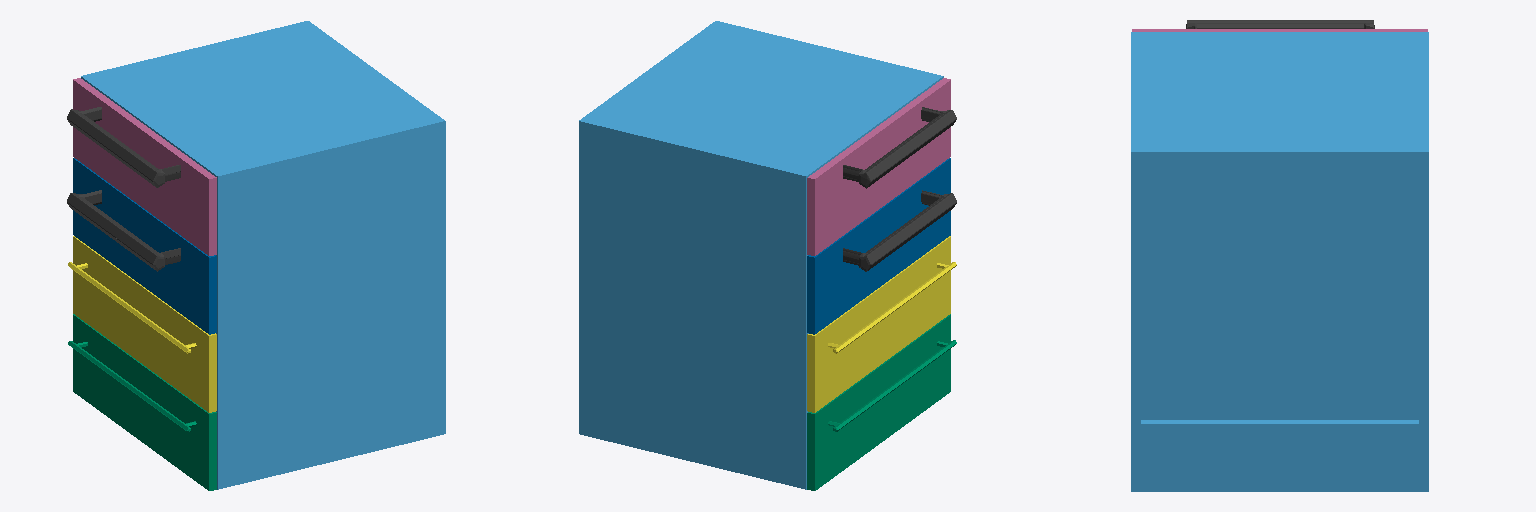
robot.urdf — partnet_f44029207e03c4be4c3aee8e9d3a6ffa:
<?xml version="1.0" ?>
<robot name="partnet_f44029207e03c4be4c3aee8e9d3a6ffa">
    <material name="black">
       <color rgba="0.3 0.3 0.3 1"/>
    </material>
	<link name="base"/>
	<link name="link_0">
		<visual name="back_panel-50">
			<origin xyz="0 0 0"/>
			<geometry>
				<mesh filename="textured_objs/original-15.obj"/>
			</geometry>
		</visual>
		<visual name="bottom_panel-51">
			<origin xyz="0 0 0"/>
			<geometry>
				<mesh filename="textured_objs/original-10.obj"/>
			</geometry>
		</visual>
		<visual name="bottom_panel-51">
			<origin xyz="0 0 0"/>
			<geometry>
				<mesh filename="textured_objs/original-9.obj"/>
			</geometry>
		</visual>
		<visual name="top_panel-52">
			<origin xyz="0 0 0"/>
			<geometry>
				<mesh filename="textured_objs/original-13.obj"/>
			</geometry>
		</visual>
		<visual name="top_panel-52">
			<origin xyz="0 0 0"/>
			<geometry>
				<mesh filename="textured_objs/original-12.obj"/>
			</geometry>
		</visual>
		<visual name="frame_horizontal_bar-55">
			<origin xyz="0 0 0"/>
			<geometry>
				<mesh filename="textured_objs/original-16.obj"/>
			</geometry>
		</visual>
		<visual name="frame_horizontal_bar-56">
			<origin xyz="0 0 0"/>
			<geometry>
				<mesh filename="textured_objs/original-14.obj"/>
			</geometry>
		</visual>
		<visual name="vertical_side_panel-59">
			<origin xyz="0 0 0"/>
			<geometry>
				<mesh filename="textured_objs/original-7.obj"/>
			</geometry>
		</visual>
		<visual name="vertical_side_panel-59">
			<origin xyz="0 0 0"/>
			<geometry>
				<mesh filename="textured_objs/original-6.obj"/>
			</geometry>
		</visual>
		<visual name="vertical_side_panel-60">
			<origin xyz="0 0 0"/>
			<geometry>
				<mesh filename="textured_objs/original-4.obj"/>
			</geometry>
		</visual>
		<visual name="vertical_side_panel-60">
			<origin xyz="0 0 0"/>
			<geometry>
				<mesh filename="textured_objs/original-3.obj"/>
			</geometry>
		</visual>
		<collision>
			<origin xyz="0 0 0"/>
			<geometry>
				<mesh filename="textured_objs/original-15.obj"/>
			</geometry>
		</collision>
		<collision>
			<origin xyz="0 0 0"/>
			<geometry>
				<mesh filename="textured_objs/original-10.obj"/>
			</geometry>
		</collision>
		<collision>
			<origin xyz="0 0 0"/>
			<geometry>
				<mesh filename="textured_objs/original-9.obj"/>
			</geometry>
		</collision>
		<collision>
			<origin xyz="0 0 0"/>
			<geometry>
				<mesh filename="textured_objs/original-13.obj"/>
			</geometry>
		</collision>
		<collision>
			<origin xyz="0 0 0"/>
			<geometry>
				<mesh filename="textured_objs/original-12.obj"/>
			</geometry>
		</collision>
		<collision>
			<origin xyz="0 0 0"/>
			<geometry>
				<mesh filename="textured_objs/original-16.obj"/>
			</geometry>
		</collision>
		<collision>
			<origin xyz="0 0 0"/>
			<geometry>
				<mesh filename="textured_objs/original-14.obj"/>
			</geometry>
		</collision>
		<collision>
			<origin xyz="0 0 0"/>
			<geometry>
				<mesh filename="textured_objs/original-7.obj"/>
			</geometry>
		</collision>
		<collision>
			<origin xyz="0 0 0"/>
			<geometry>
				<mesh filename="textured_objs/original-6.obj"/>
			</geometry>
		</collision>
		<collision>
			<origin xyz="0 0 0"/>
			<geometry>
				<mesh filename="textured_objs/original-4.obj"/>
			</geometry>
		</collision>
		<collision>
			<origin xyz="0 0 0"/>
			<geometry>
				<mesh filename="textured_objs/original-3.obj"/>
			</geometry>
		</collision>
	</link>
	<joint name="joint_0" type="fixed">
		<origin rpy="1.570796326794897 0 -1.570796326794897" xyz="0 0 0"/>
		<child link="link_0"/>
		<parent link="base"/>
	</joint>
	<link name="link_1">
		<visual name="drawer_front-43">
			<origin xyz="0 0 0"/>
			<geometry>
				<mesh filename="textured_objs/original-18.obj"/>
			</geometry>
		</visual>
		<visual name="drawer_front-43">
			<origin xyz="0 0 0"/>
			<geometry>
				<mesh filename="textured_objs/original-25.obj"/>
			</geometry>
		</visual>
		<visual name="drawer_side-44">
			<origin xyz="0 0 0"/>
			<geometry>
				<mesh filename="textured_objs/original-24.obj"/>
			</geometry>
		</visual>
		<visual name="drawer_side-45">
			<origin xyz="0 0 0"/>
			<geometry>
				<mesh filename="textured_objs/original-23.obj"/>
			</geometry>
		</visual>
		<visual name="drawer_back-46">
			<origin xyz="0 0 0"/>
			<geometry>
				<mesh filename="textured_objs/original-26.obj"/>
			</geometry>
		</visual>
		<visual name="drawer_bottom-47">
			<origin xyz="0 0 0"/>
			<geometry>
				<mesh filename="textured_objs/original-21.obj"/>
			</geometry>
		</visual>
		<visual name="drawer_bottom-47">
			<origin xyz="0 0 0"/>
			<geometry>
				<mesh filename="textured_objs/original-22.obj"/>
			</geometry>
		</visual>
		<visual name="handle-40">
			<origin xyz="0 0 0"/>
			<geometry>
				<mesh filename="textured_objs/original-31.obj"/>
			</geometry>
		</visual>
		<visual name="handle-40">
			<origin xyz="0 0 0"/>
			<geometry>
				<mesh filename="textured_objs/original-30.obj"/>
			</geometry>
		</visual>
		<visual name="handle-40">
			<origin xyz="0 0 0"/>
			<geometry>
				<mesh filename="textured_objs/original-32.obj"/>
			</geometry>
		</visual>
		<visual name="drawer_rails-41">
			<origin xyz="0 0 0"/>
			<geometry>
				<mesh filename="textured_objs/original-27.obj"/>
			</geometry>
		</visual>
		<visual name="drawer_rails-42">
			<origin xyz="0 0 0"/>
			<geometry>
				<mesh filename="textured_objs/original-28.obj"/>
			</geometry>
		</visual>
		<collision>
			<origin xyz="0 0 0"/>
			<geometry>
				<mesh filename="textured_objs/original-18.obj"/>
			</geometry>
		</collision>
		<collision>
			<origin xyz="0 0 0"/>
			<geometry>
				<mesh filename="textured_objs/original-25.obj"/>
			</geometry>
		</collision>
		<collision>
			<origin xyz="0 0 0"/>
			<geometry>
				<mesh filename="textured_objs/original-24.obj"/>
			</geometry>
		</collision>
		<collision>
			<origin xyz="0 0 0"/>
			<geometry>
				<mesh filename="textured_objs/original-23.obj"/>
			</geometry>
		</collision>
		<collision>
			<origin xyz="0 0 0"/>
			<geometry>
				<mesh filename="textured_objs/original-26.obj"/>
			</geometry>
		</collision>
		<collision>
			<origin xyz="0 0 0"/>
			<geometry>
				<mesh filename="textured_objs/original-21.obj"/>
			</geometry>
		</collision>
		<collision>
			<origin xyz="0 0 0"/>
			<geometry>
				<mesh filename="textured_objs/original-22.obj"/>
			</geometry>
		</collision>
		<collision>
			<origin xyz="0 0 0"/>
			<geometry>
				<mesh filename="textured_objs/original-31.obj"/>
			</geometry>
		</collision>
		<collision>
			<origin xyz="0 0 0"/>
			<geometry>
				<mesh filename="textured_objs/original-30.obj"/>
			</geometry>
		</collision>
		<collision>
			<origin xyz="0 0 0"/>
			<geometry>
				<mesh filename="textured_objs/original-32.obj"/>
			</geometry>
		</collision>
		<collision>
			<origin xyz="0 0 0"/>
			<geometry>
				<mesh filename="textured_objs/original-27.obj"/>
			</geometry>
		</collision>
		<collision>
			<origin xyz="0 0 0"/>
			<geometry>
				<mesh filename="textured_objs/original-28.obj"/>
			</geometry>
		</collision>
	</link>
	<joint name="joint_1" type="prismatic">
		<origin xyz="0 0 0"/>
		<axis xyz="0 0 1"/>
		<child link="link_1"/>
		<parent link="link_0"/>
		<limit lower="0" upper="1"/>
	</joint>
	<link name="link_2">
		<visual name="drawer_front-34">
			<origin xyz="0 0 0"/>
			<geometry>
				<mesh filename="textured_objs/original-34.obj"/>
			</geometry>
		</visual>
		<visual name="drawer_front-34">
			<origin xyz="0 0 0"/>
			<geometry>
				<mesh filename="textured_objs/original-41.obj"/>
			</geometry>
		</visual>
		<visual name="drawer_side-35">
			<origin xyz="0 0 0"/>
			<geometry>
				<mesh filename="textured_objs/original-39.obj"/>
			</geometry>
		</visual>
		<visual name="drawer_side-36">
			<origin xyz="0 0 0"/>
			<geometry>
				<mesh filename="textured_objs/original-40.obj"/>
			</geometry>
		</visual>
		<visual name="drawer_back-37">
			<origin xyz="0 0 0"/>
			<geometry>
				<mesh filename="textured_objs/original-42.obj"/>
			</geometry>
		</visual>
		<visual name="drawer_bottom-38">
			<origin xyz="0 0 0"/>
			<geometry>
				<mesh filename="textured_objs/original-37.obj"/>
			</geometry>
		</visual>
		<visual name="drawer_bottom-38">
			<origin xyz="0 0 0"/>
			<geometry>
				<mesh filename="textured_objs/original-38.obj"/>
			</geometry>
		</visual>
		<visual name="handle-31">
			<origin xyz="0 0 0"/>
			<geometry>
				<mesh filename="textured_objs/handle.obj" scale="1.0 1.0 1.0"/>
			</geometry>
		</visual>
		<visual name="drawer_rails-32">
			<origin xyz="0 0 0"/>
			<geometry>
				<mesh filename="textured_objs/original-43.obj"/>
			</geometry>
		</visual>
		<visual name="drawer_rails-33">
			<origin xyz="0 0 0"/>
			<geometry>
				<mesh filename="textured_objs/original-44.obj"/>
			</geometry>
		</visual>
		<collision>
			<origin xyz="0 0 0"/>
			<geometry>
				<mesh filename="textured_objs/original-34.obj"/>
			</geometry>
		</collision>
		<collision>
			<origin xyz="0 0 0"/>
			<geometry>
				<mesh filename="textured_objs/original-41.obj"/>
			</geometry>
		</collision>
		<collision>
			<origin xyz="0 0 0"/>
			<geometry>
				<mesh filename="textured_objs/original-39.obj"/>
			</geometry>
		</collision>
		<collision>
			<origin xyz="0 0 0"/>
			<geometry>
				<mesh filename="textured_objs/original-40.obj"/>
			</geometry>
		</collision>
		<collision>
			<origin xyz="0 0 0"/>
			<geometry>
				<mesh filename="textured_objs/original-42.obj"/>
			</geometry>
		</collision>
		<collision>
			<origin xyz="0 0 0"/>
			<geometry>
				<mesh filename="textured_objs/original-37.obj"/>
			</geometry>
		</collision>
		<collision>
			<origin xyz="0 0 0"/>
			<geometry>
				<mesh filename="textured_objs/original-38.obj"/>
			</geometry>
		</collision>
		<collision>
			<origin xyz="0 0 0"/>
			<geometry>
				<mesh filename="textured_objs/original-46.obj"/>
			</geometry>
		</collision>
		<collision>
			<origin xyz="0 0 0"/>
			<geometry>
				<mesh filename="textured_objs/original-47.obj"/>
			</geometry>
		</collision>
		<collision>
			<origin xyz="0 0 0"/>
			<geometry>
				<mesh filename="textured_objs/original-48.obj"/>
			</geometry>
		</collision>
		<collision>
			<origin xyz="0 0 0"/>
			<geometry>
				<mesh filename="textured_objs/original-43.obj"/>
			</geometry>
		</collision>
		<collision>
			<origin xyz="0 0 0"/>
			<geometry>
				<mesh filename="textured_objs/original-44.obj"/>
			</geometry>
		</collision>
	</link>
	<joint name="joint_2" type="prismatic">
		<origin xyz="0 0 0"/>
		<axis xyz="0 0 1"/>
		<child link="link_2"/>
		<parent link="link_0"/>
		<limit lower="0" upper="1"/>
	</joint>
	<link name="link_3">
		<visual name="drawer_front-25">
			<origin xyz="0 0 0"/>
			<geometry>
				<mesh filename="textured_objs/original-50.obj"/>
			</geometry>
		</visual>
		<visual name="drawer_front-25">
			<origin xyz="0 0 0"/>
			<geometry>
				<mesh filename="textured_objs/original-57.obj"/>
			</geometry>
		</visual>
		<visual name="drawer_side-26">
			<origin xyz="0 0 0"/>
			<geometry>
				<mesh filename="textured_objs/original-55.obj"/>
			</geometry>
		</visual>
		<visual name="drawer_side-27">
			<origin xyz="0 0 0"/>
			<geometry>
				<mesh filename="textured_objs/original-56.obj"/>
			</geometry>
		</visual>
		<visual name="drawer_back-28">
			<origin xyz="0 0 0"/>
			<geometry>
				<mesh filename="textured_objs/original-58.obj"/>
			</geometry>
		</visual>
		<visual name="drawer_bottom-29">
			<origin xyz="0 0 0"/>
			<geometry>
				<mesh filename="textured_objs/original-53.obj"/>
			</geometry>
		</visual>
		<visual name="drawer_bottom-29">
			<origin xyz="0 0 0"/>
			<geometry>
				<mesh filename="textured_objs/original-54.obj"/>
			</geometry>
		</visual>

		<visual name="drawer_rails-23">
			<origin xyz="0 0 0"/>
			<geometry>
				<mesh filename="textured_objs/original-60.obj"/>
			</geometry>
		</visual>
		<visual name="drawer_rails-24">
			<origin xyz="0 0 0"/>
			<geometry>
				<mesh filename="textured_objs/original-59.obj"/>
			</geometry>
		</visual>
		<collision>
			<origin xyz="0 0 0"/>
			<geometry>
				<mesh filename="textured_objs/original-50.obj"/>
			</geometry>
		</collision>
		<collision>
			<origin xyz="0 0 0"/>
			<geometry>
				<mesh filename="textured_objs/original-57.obj"/>
			</geometry>
		</collision>
		<collision>
			<origin xyz="0 0 0"/>
			<geometry>
				<mesh filename="textured_objs/original-55.obj"/>
			</geometry>
		</collision>
		<collision>
			<origin xyz="0 0 0"/>
			<geometry>
				<mesh filename="textured_objs/original-56.obj"/>
			</geometry>
		</collision>
		<collision>
			<origin xyz="0 0 0"/>
			<geometry>
				<mesh filename="textured_objs/original-58.obj"/>
			</geometry>
		</collision>
		<collision>
			<origin xyz="0 0 0"/>
			<geometry>
				<mesh filename="textured_objs/original-53.obj"/>
			</geometry>
		</collision>
		<collision>
			<origin xyz="0 0 0"/>
			<geometry>
				<mesh filename="textured_objs/original-54.obj"/>
			</geometry>
		</collision>
		<collision>
			<origin xyz="0 0 0"/>
			<geometry>
				<mesh filename="textured_objs/original-60.obj"/>
			</geometry>
		</collision>
		<collision>
			<origin xyz="0 0 0"/>
			<geometry>
				<mesh filename="textured_objs/original-59.obj"/>
			</geometry>
		</collision>
	</link>
	<link name="link_handle_2">
		<visual name="handle-22">
			<origin xyz="0.0 0.25 0.62"/>
			<material name="black"/>
			<geometry>
				<mesh filename="textured_objs/handle_layer2_normalized_v.obj" scale="0.7 3.0 2.5"/>
			</geometry>
		</visual>
		<collision>
			<origin xyz="0.0 0.25 0.62"/>
			<geometry>
				<mesh filename="textured_objs/handle_layer2_normalized_v.obj" scale="0.7 3.0 2.5"/>
			</geometry>
		</collision>
	</link>
	<joint name="joint_handle_2" type="fixed">
	    <origin xyz="0 0 0"/>
		<child link="link_handle_2"/>
		<parent link="link_3"/>
	</joint>
	<joint name="joint_3" type="prismatic">
		<origin xyz="0 0 0"/>
		<axis xyz="0 0 1"/>
		<child link="link_3"/>
		<parent link="link_0"/>
		<limit lower="0" upper="1"/>
	</joint>
	<link name="link_4">
		<visual name="drawer_front-14">
			<origin xyz="0 0 0"/>
			<geometry>
				<mesh filename="textured_objs/original-73.obj"/>
			</geometry>
		</visual>
		<visual name="drawer_front-14">
			<origin xyz="0 0 0"/>
			<geometry>
				<mesh filename="textured_objs/original-66.obj"/>
			</geometry>
		</visual>
		<visual name="drawer_side-15">
			<origin xyz="0 0 0"/>
			<geometry>
				<mesh filename="textured_objs/original-71.obj"/>
			</geometry>
		</visual>
		<visual name="drawer_side-16">
			<origin xyz="0 0 0"/>
			<geometry>
				<mesh filename="textured_objs/original-72.obj"/>
			</geometry>
		</visual>
		<visual name="drawer_back-17">
			<origin xyz="0 0 0"/>
			<geometry>
				<mesh filename="textured_objs/original-74.obj"/>
			</geometry>
		</visual>
		<visual name="drawer_bottom-18">
			<origin xyz="0 0 0"/>
			<geometry>
				<mesh filename="textured_objs/original-69.obj"/>
			</geometry>
		</visual>
		<visual name="drawer_bottom-18">
			<origin xyz="0 0 0"/>
			<geometry>
				<mesh filename="textured_objs/original-70.obj" />
			</geometry>
		</visual>

		<visual name="drawer_rails-19">
			<origin xyz="0 0 0"/>
			<geometry>
				<mesh filename="textured_objs/original-75.obj"/>
			</geometry>
		</visual>
		<visual name="drawer_rails-20">
			<origin xyz="0 0 0"/>
			<geometry>
				<mesh filename="textured_objs/original-76.obj"/>
			</geometry>
		</visual>
		<collision>
			<origin xyz="0 0 0"/>
			<geometry>
				<mesh filename="textured_objs/original-73.obj"/>
			</geometry>
		</collision>
		<collision>
			<origin xyz="0 0 0"/>
			<geometry>
				<mesh filename="textured_objs/original-66.obj"/>
			</geometry>
		</collision>
		<collision>
			<origin xyz="0 0 0"/>
			<geometry>
				<mesh filename="textured_objs/original-71.obj"/>
			</geometry>
		</collision>
		<collision>
			<origin xyz="0 0 0"/>
			<geometry>
				<mesh filename="textured_objs/original-72.obj"/>
			</geometry>
		</collision>
		<collision>
			<origin xyz="0 0 0"/>
			<geometry>
				<mesh filename="textured_objs/original-74.obj"/>
			</geometry>
		</collision>
		<collision>
			<origin xyz="0 0 0"/>
			<geometry>
				<mesh filename="textured_objs/original-69.obj"/>
			</geometry>
		</collision>
		<collision>
			<origin xyz="0 0 0"/>
			<geometry>
				<mesh filename="textured_objs/original-70.obj"/>
			</geometry>
		</collision>
		<collision>
			<origin xyz="0 0 0"/>
			<geometry>
				<mesh filename="textured_objs/original-75.obj"/>
			</geometry>
		</collision>
		<collision>
			<origin xyz="0 0 0"/>
			<geometry>
				<mesh filename="textured_objs/original-76.obj"/>
			</geometry>
		</collision>
	</link>
	<link name="link_handle_1">
		<visual name="handle-8">
			<origin xyz="0.0 0.62 0.62"/>
			<geometry>
				<mesh filename="textured_objs/handle_layer1_normalized_v.obj" scale="0.7 3.0 2.5"/>
			</geometry>
			<material name="black"/>
		</visual>
		<collision>
			<origin xyz="0.0 0.62 0.62"/>
			<geometry>
				<mesh filename="textured_objs/handle_layer1_normalized_v.obj" scale="0.7 3.0 2.5"/>
			</geometry>
		</collision>
	</link>
	<joint name="joint_handle_1" type="fixed">
		<origin xyz="0 0 0"/>
		<child link="link_handle_1"/>
		<parent link="link_4"/>
	</joint>
	<joint name="joint_4" type="prismatic">
		<origin xyz="0 0 0"/>
		<axis xyz="0 0 1"/>
		<child link="link_4"/>
		<parent link="link_0"/>
		<limit lower="0" upper="1"/>
	</joint>
</robot>

--- What the picture shows (computed from the rendered views, not written in the file) ---
Views: 3 orthographic renders of the robot side by side, from view 1: azimuth 30°, elevation 25°; view 2: azimuth 150°, elevation 25°; view 3: azimuth 270°, elevation 25°.
Model partnet_f44029207e03c4be4c3aee8e9d3a6ffa with 8 links and 7 joints (4 prismatic, 3 fixed), rooted at base, posed all joints at 0.
Visible links, largest first — view 1: link_0, link_2, link_1, link_4, link_3, link_handle_2, link_handle_1; view 2: link_0, link_2, link_1, link_4, link_3, link_handle_2, link_handle_1; view 3: link_0, link_handle_1, link_4.
Boxes of the visible links, x1,y1,x2,y2 form: link_0: [81, 21, 445, 489]; link_2: [68, 236, 216, 412]; link_1: [68, 314, 216, 490]; link_4: [73, 78, 216, 255]; link_3: [73, 158, 216, 334]; link_handle_2: [67, 190, 180, 271]; link_handle_1: [67, 107, 180, 187]; link_0: [579, 21, 943, 489]; link_2: [807, 236, 956, 412]; link_1: [807, 314, 956, 490]; link_4: [807, 78, 950, 255]; link_3: [807, 158, 950, 334]; link_handle_2: [843, 190, 956, 271]; link_handle_1: [843, 107, 956, 188]; link_0: [1131, 32, 1428, 491]; link_handle_1: [1186, 20, 1374, 28]; link_4: [1132, 29, 1427, 31].
Bounding box of the posed robot: 1.24 × 1.1 × 1.39 m (x, y, z).
53 mesh visuals loaded from 53 distinct referenced files (53 OBJ).